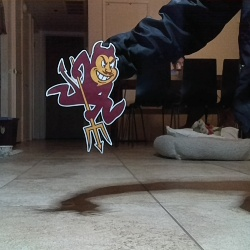sparky: (45, 40, 127, 154)
